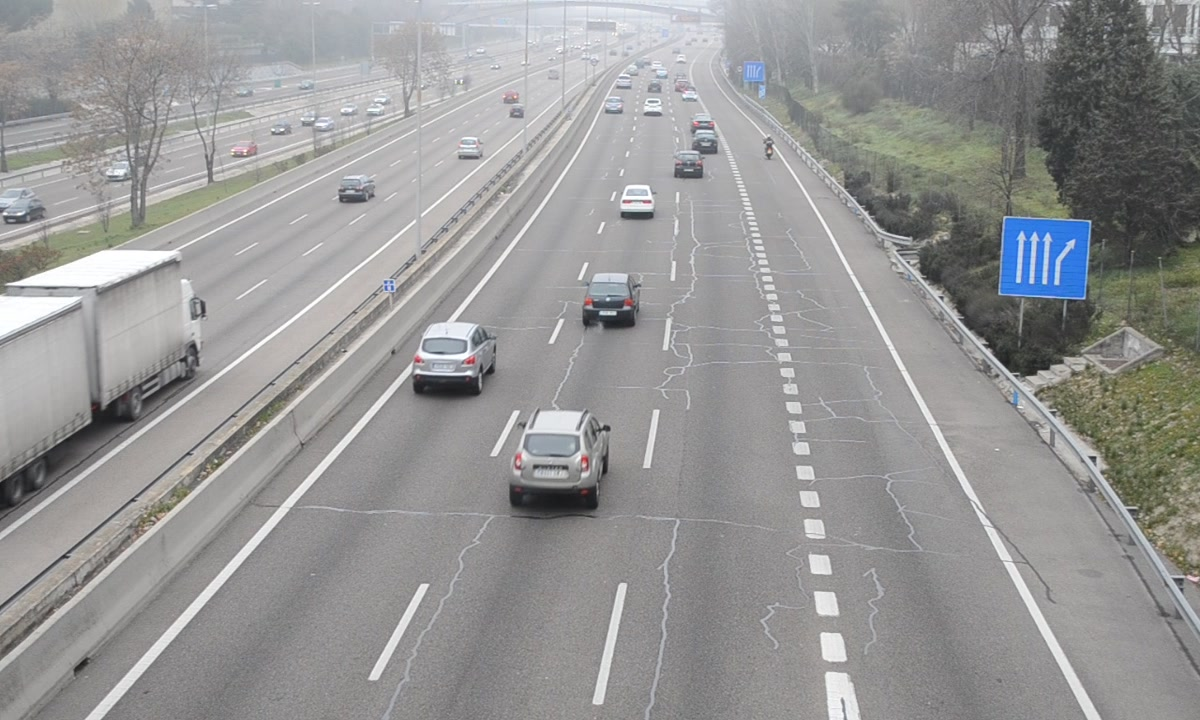car: (509, 411, 608, 495), (410, 322, 496, 383), (582, 273, 637, 323), (620, 183, 654, 215), (673, 150, 706, 181), (693, 130, 719, 156)
motorcycle: (763, 133, 776, 160)
